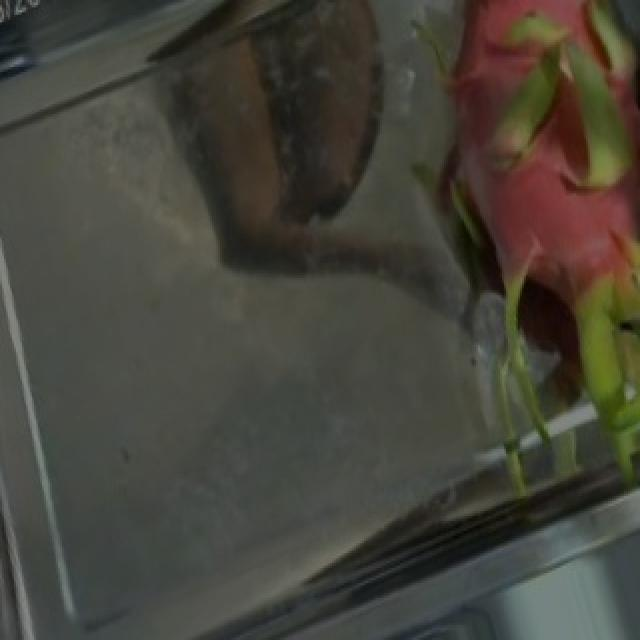fruit: (314, 7, 640, 469)
